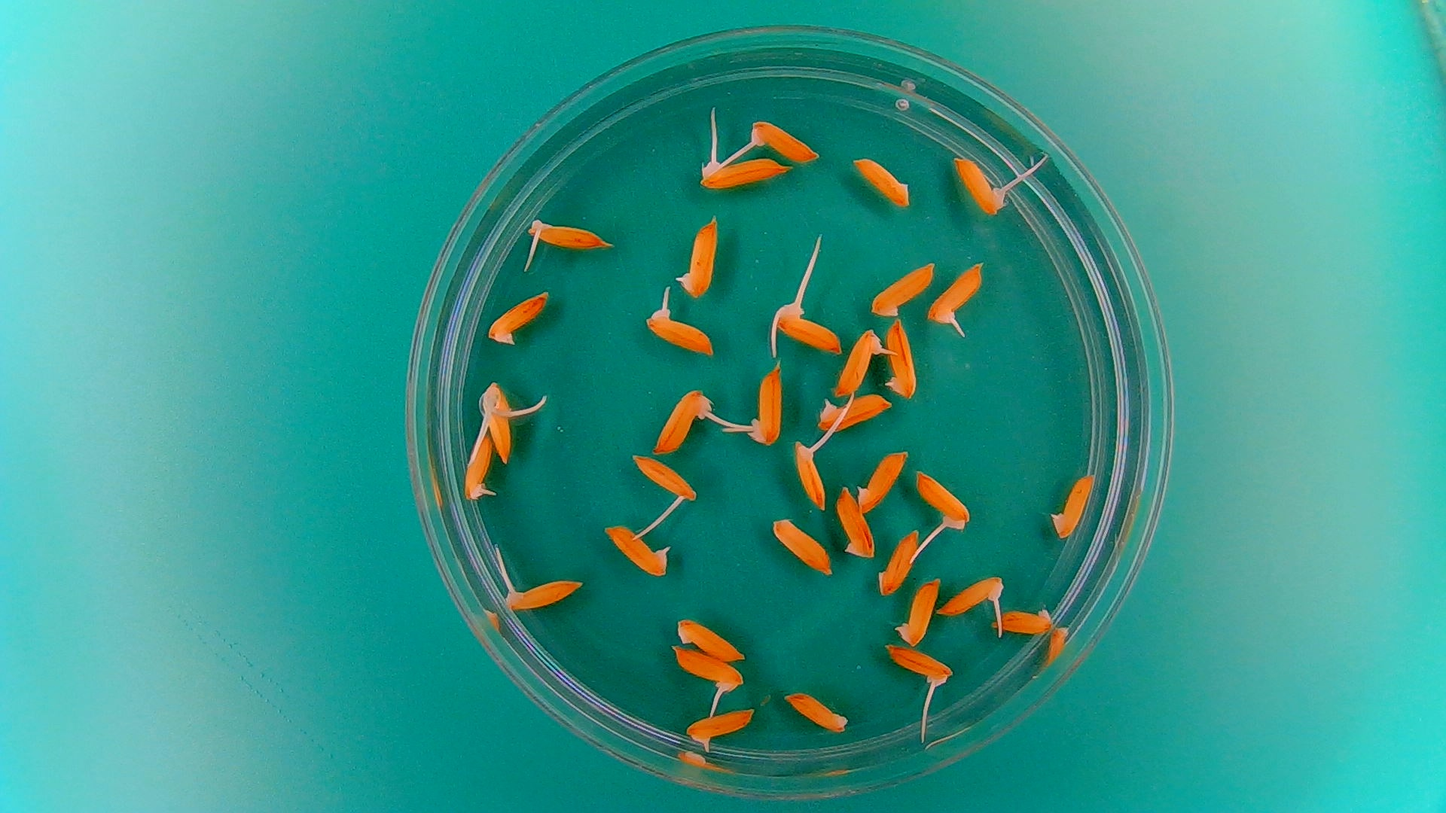no: (484, 286, 563, 348), (868, 256, 939, 318), (855, 446, 910, 516), (770, 516, 834, 575), (850, 152, 914, 210), (831, 482, 876, 561), (1047, 469, 1097, 540), (875, 526, 923, 598), (895, 574, 941, 649), (675, 617, 746, 664), (882, 318, 921, 400), (781, 690, 851, 735), (996, 604, 1054, 638)
yes: (926, 258, 984, 327), (652, 386, 709, 455), (911, 472, 972, 531), (769, 305, 842, 354), (606, 525, 673, 578), (832, 327, 882, 397), (651, 306, 718, 358), (880, 643, 953, 690), (934, 572, 1004, 620), (685, 705, 758, 750), (748, 120, 819, 166), (674, 647, 744, 693), (746, 363, 785, 445), (633, 456, 697, 505), (818, 391, 893, 432), (951, 156, 1002, 216), (500, 575, 581, 612), (460, 428, 499, 504), (700, 157, 783, 190), (530, 216, 606, 252), (684, 221, 720, 297), (483, 380, 514, 465), (789, 443, 827, 512)
